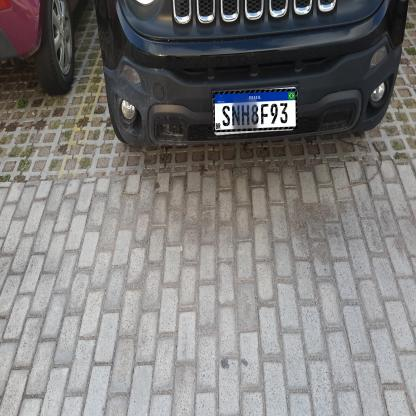PlacaM: (213, 89, 297, 132)
